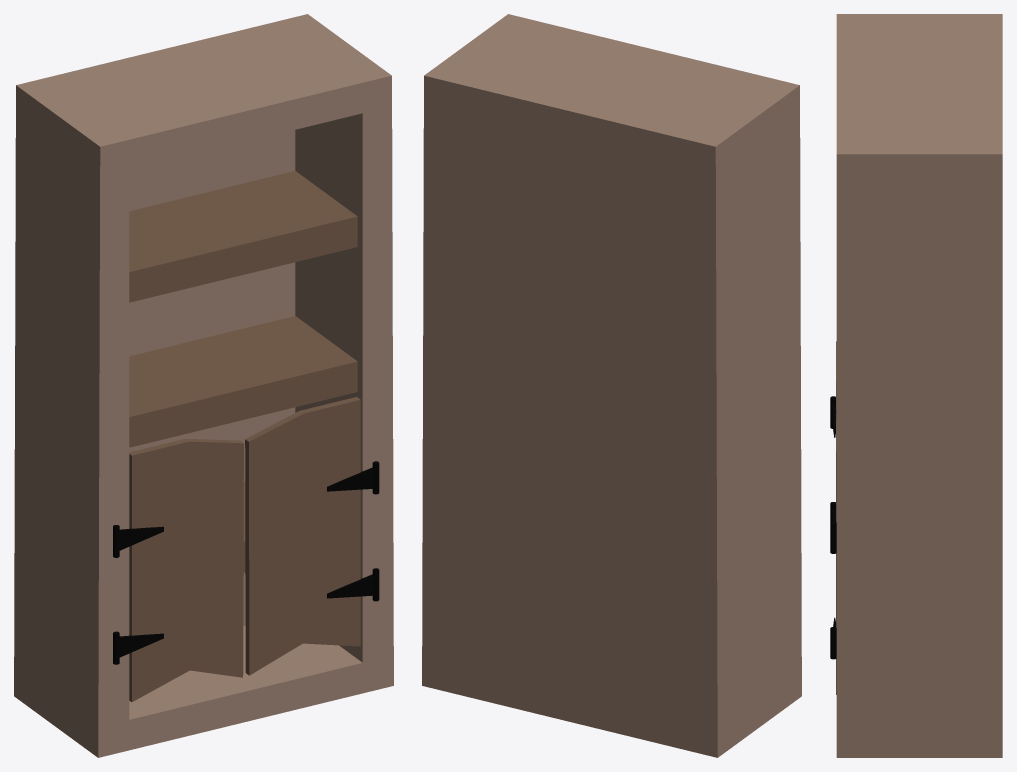
The model's file is CABINET1.fbx.
The picture shows the model from 3 angles, left to right: view 1: azimuth 30°, elevation 25°; view 2: azimuth 150°, elevation 25°; view 3: azimuth 270°, elevation 25°; orthographic projection.
Parts seen in each view (by area): view 1: Cube, Plane.001, Plane, Cube.001, Cube.003, Cube.007, Cube.006; view 2: Cube; view 3: Cube.
Boxes of the visible parts, left/top/right/bottom form: Cube: left=14, top=14, right=393, bottom=757; Plane.001: left=245, top=397, right=360, bottom=675; Plane: left=129, top=438, right=243, bottom=701; Cube.001: left=129, top=316, right=357, bottom=447; Cube.003: left=129, top=171, right=357, bottom=302; Cube.007: left=327, top=467, right=373, bottom=491; Cube.006: left=327, top=574, right=373, bottom=598; Cube: left=422, top=14, right=801, bottom=757; Cube: left=836, top=14, right=1002, bottom=757.
Size of the model in its own units: 101 by 200 by 51.9.
